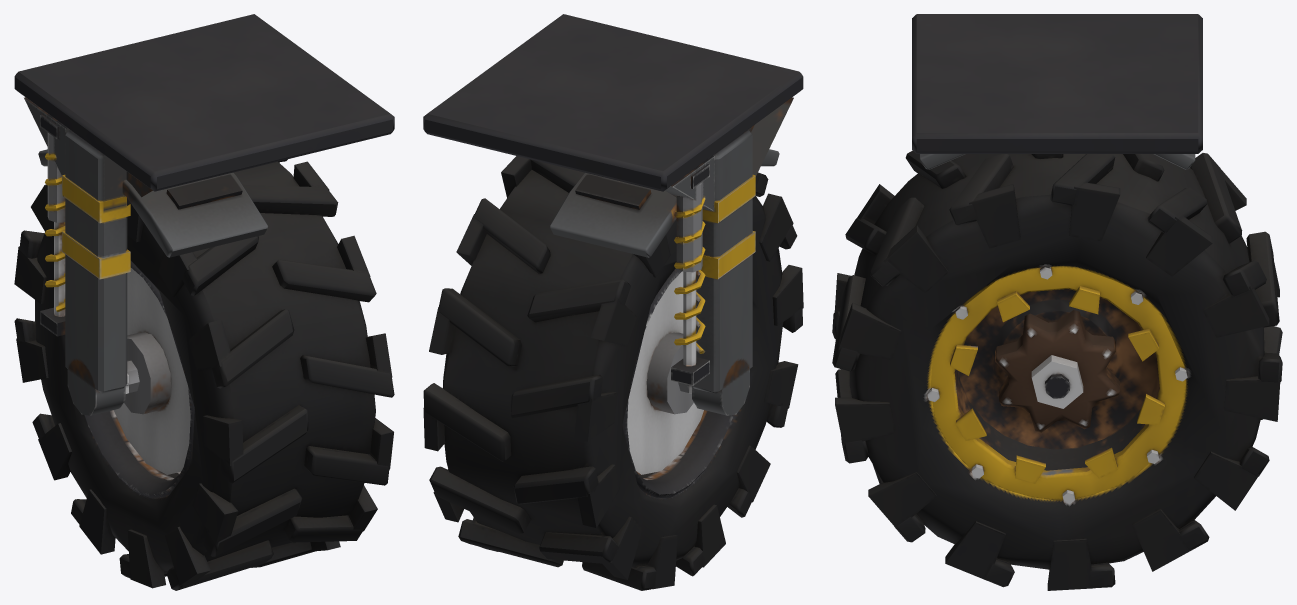
File: R4M_Wheel_LOD1.glb
3 renders of one model, left to right at view 1: azimuth 30°, elevation 25°; view 2: azimuth 150°, elevation 25°; view 3: azimuth 270°, elevation 25°, orthographic. The views are drawn at different scales.
Parts seen in each view (by area): view 1: R4M_Wheel_LOD1; view 2: R4M_Wheel_LOD1; view 3: R4M_Wheel_LOD1.
Part boxes in pixels (left/top/right/bottom): R4M_Wheel_LOD1: left=14, top=14, right=394, bottom=590; R4M_Wheel_LOD1: left=423, top=14, right=803, bottom=590; R4M_Wheel_LOD1: left=832, top=14, right=1282, bottom=590.
Bounding box in the file's own units: 0.504 × 0.91 × 0.7743.
1 material, 1 textured.
